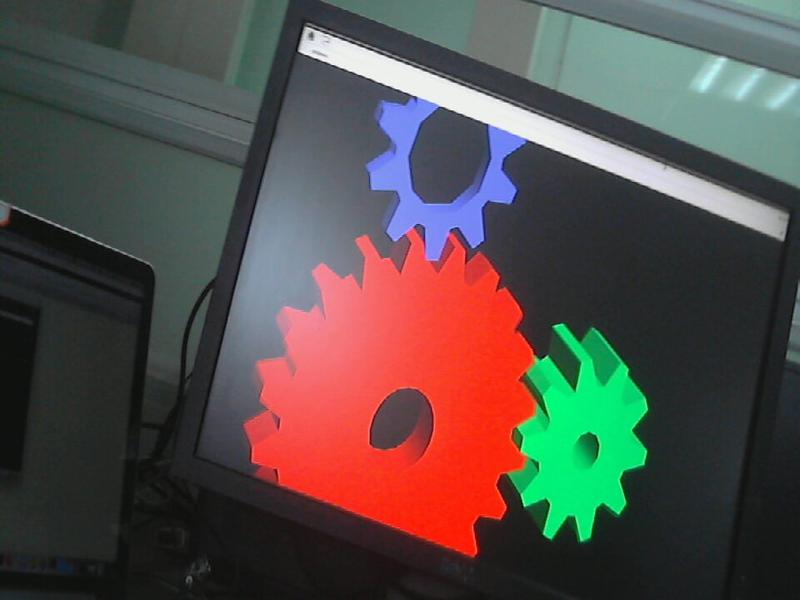glxgears_pass: (244, 57, 661, 563)
